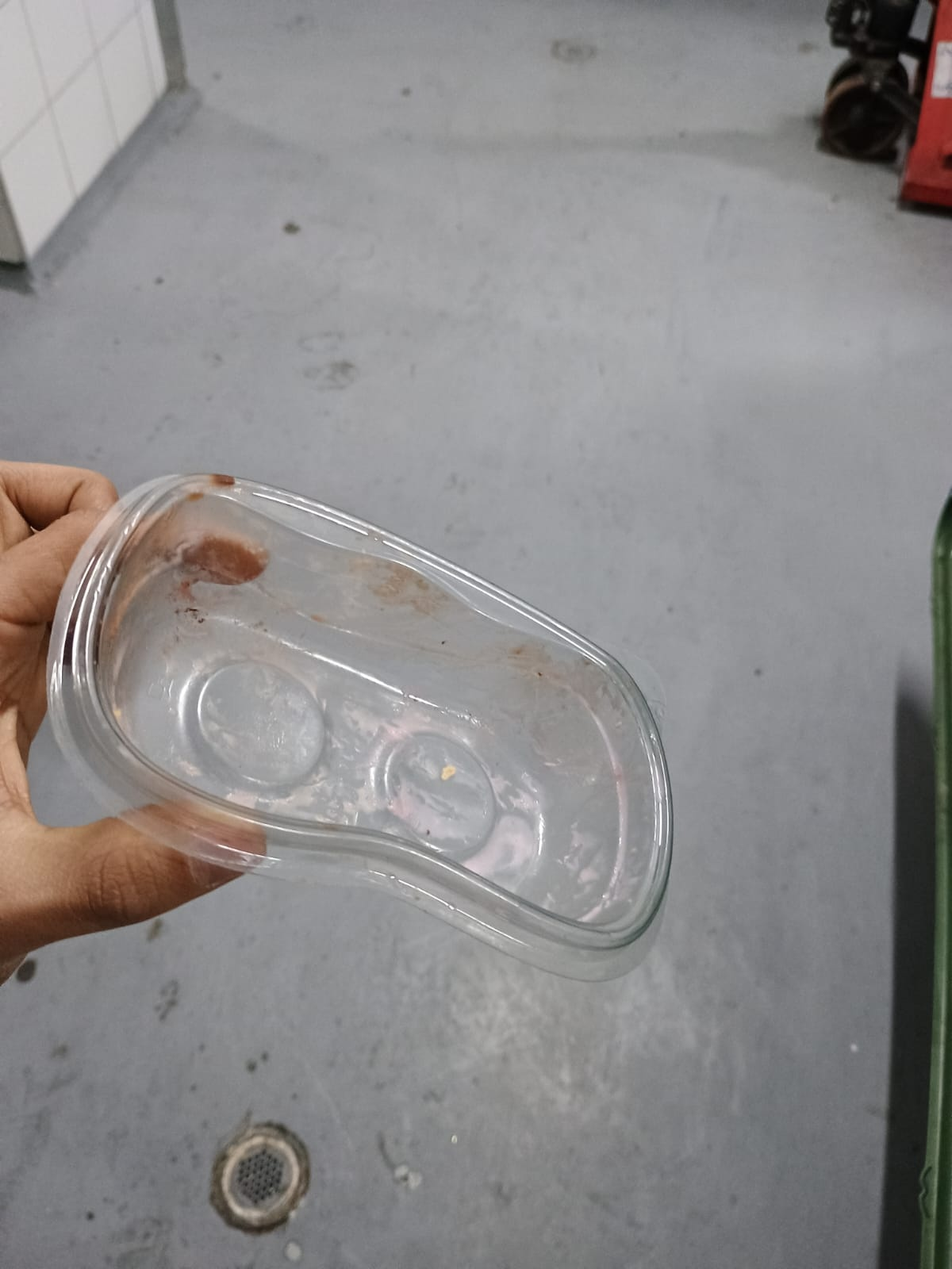Plastico: (48, 471, 683, 986)
